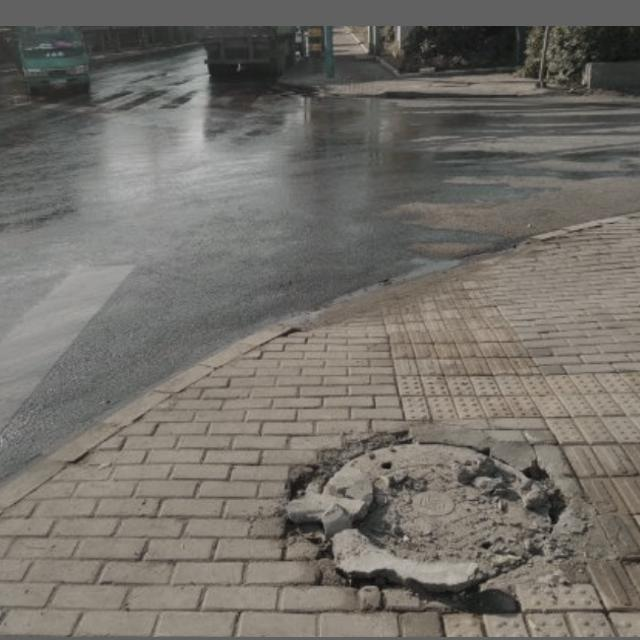circle: (283, 412, 598, 599)
